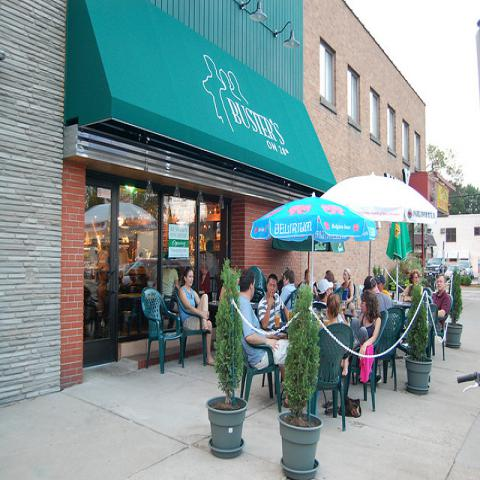car: (424, 258, 449, 278), (456, 260, 474, 280)
